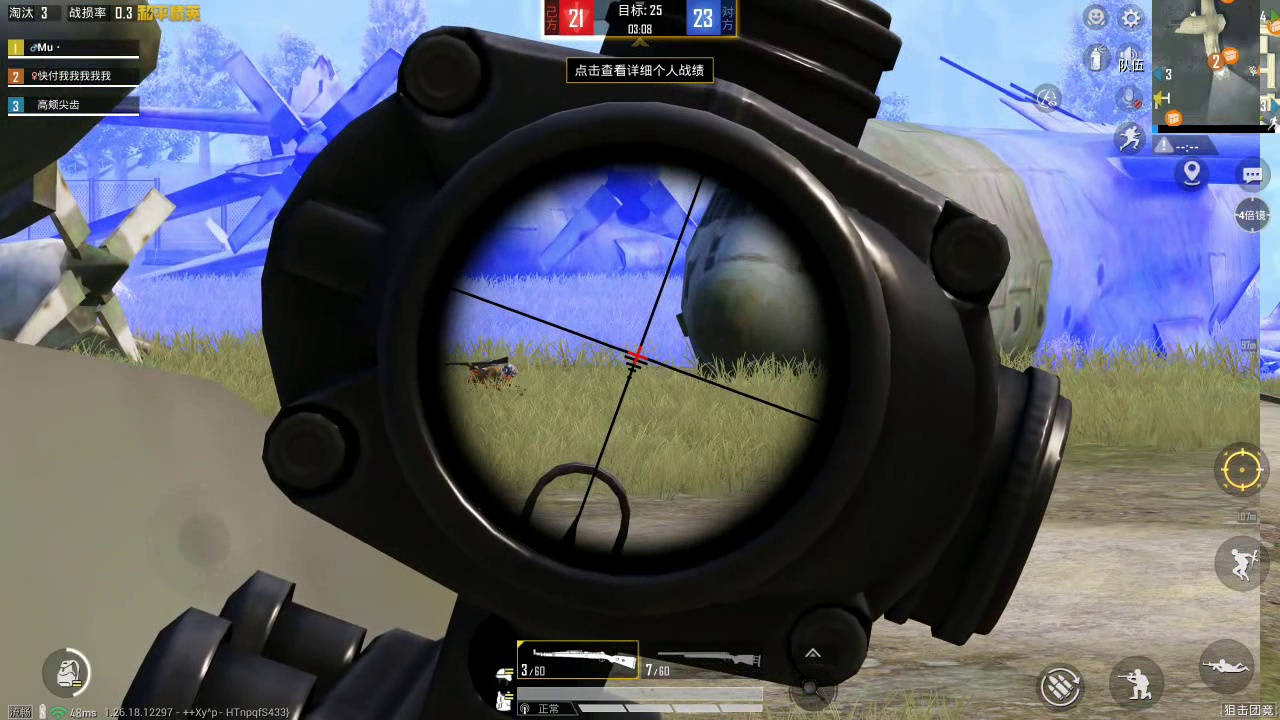enemy: (455, 358, 526, 392)
